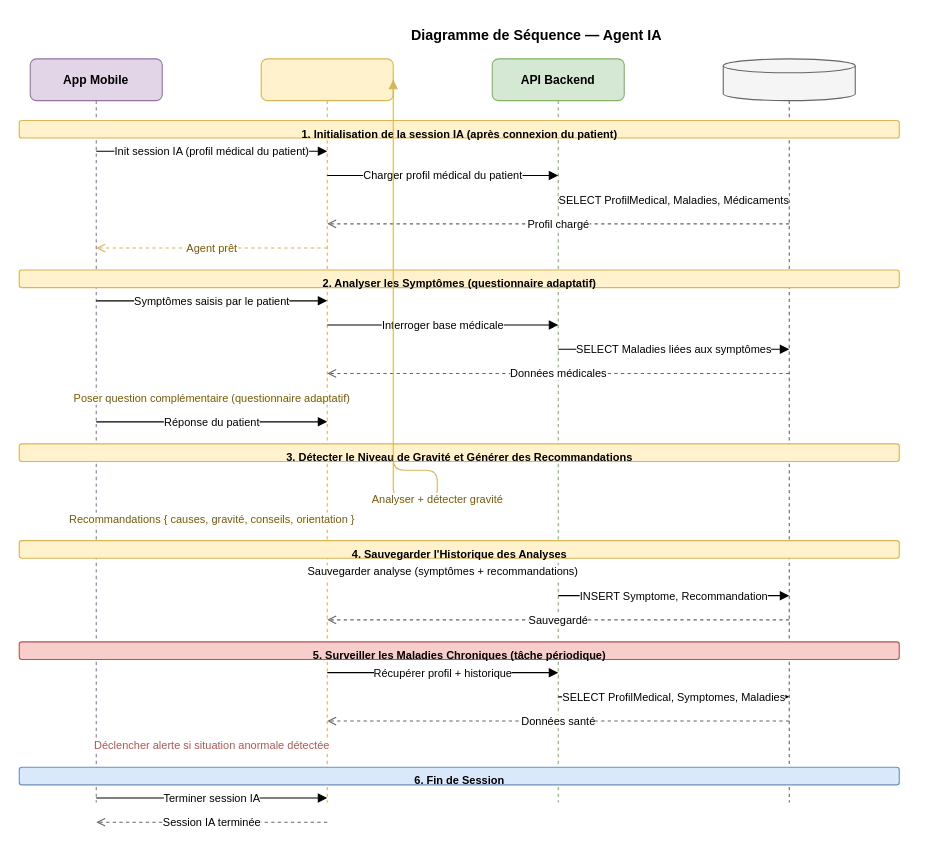
Some shapes in this 941 by 850 pixel diagram are drawn without their labels. Here are the shapes that lost their labels. From the top down, the box of each, then its label:
(260, 58, 393, 101): Agent IA
(722, 58, 855, 101): Base de Données
